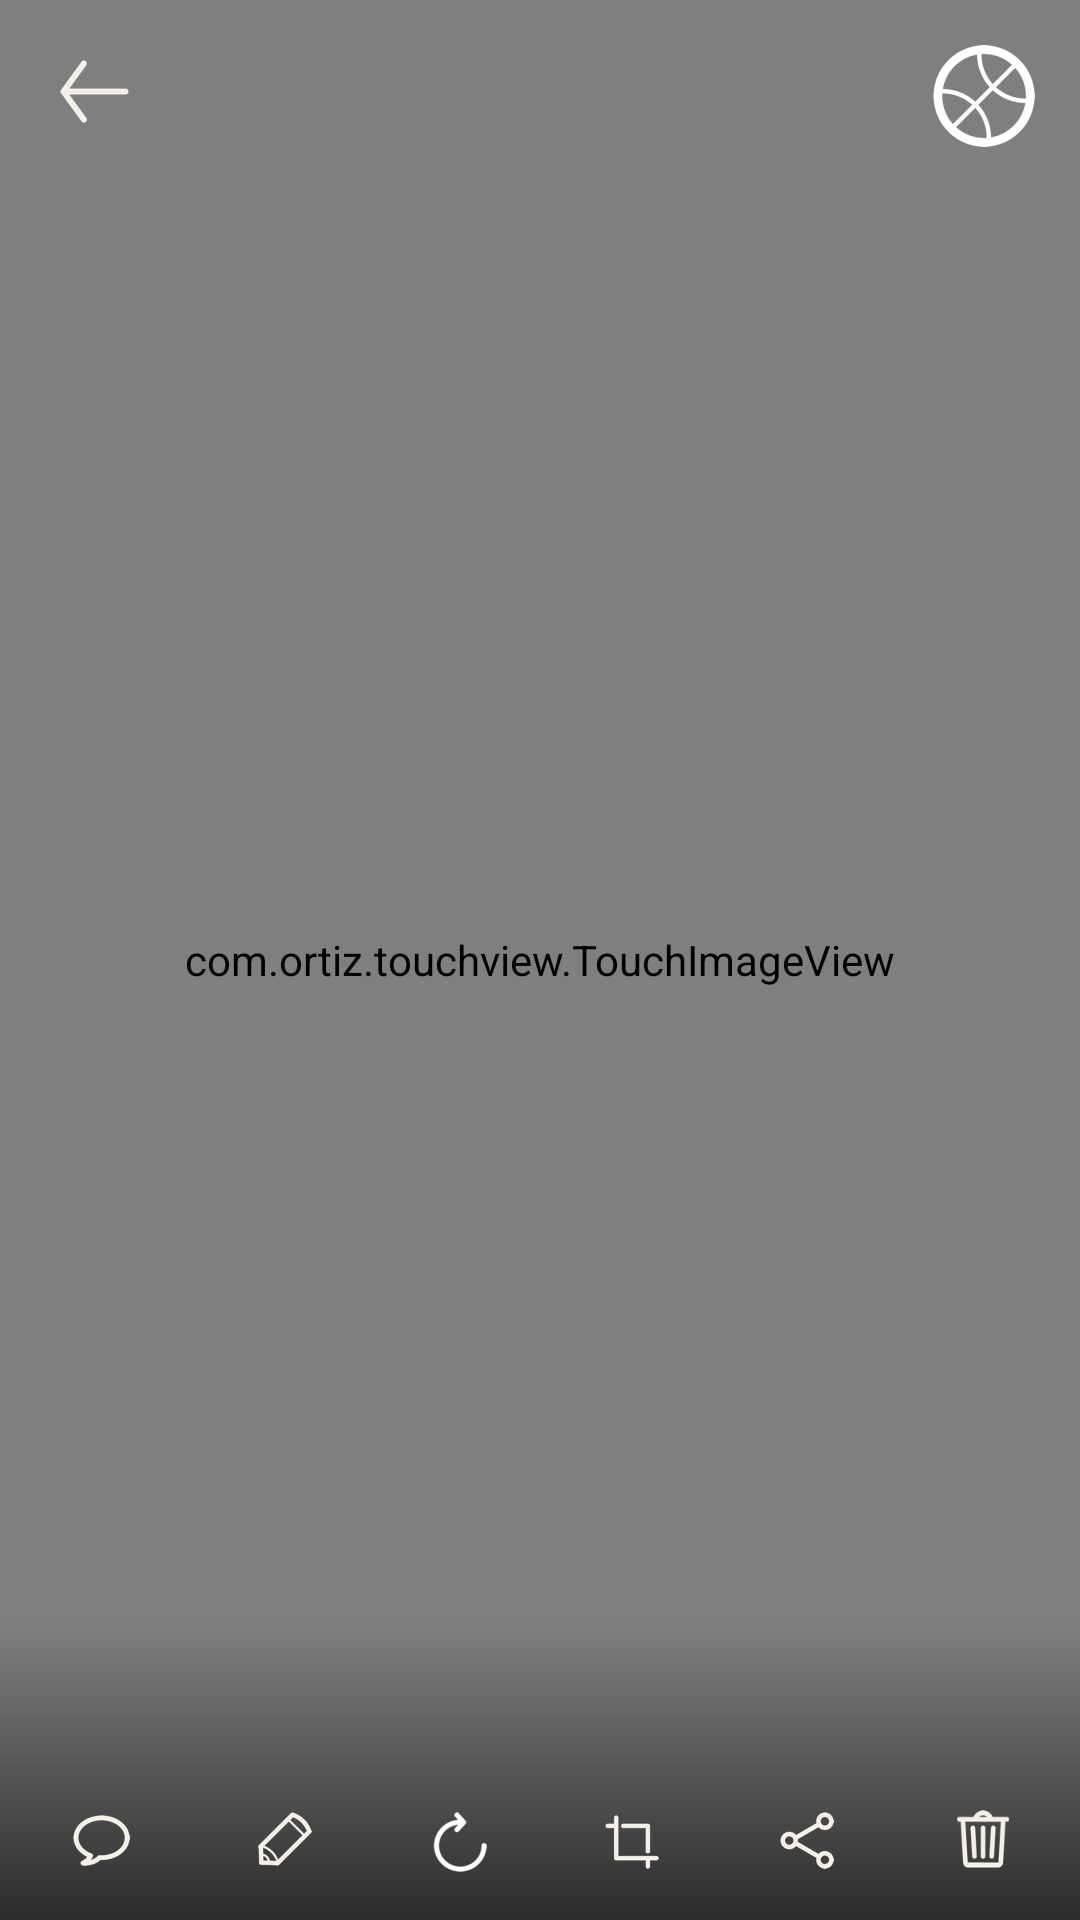

Named icons in this screenshot (1080w x 1920h) and their centers, (x,y):
back: (94,91)
